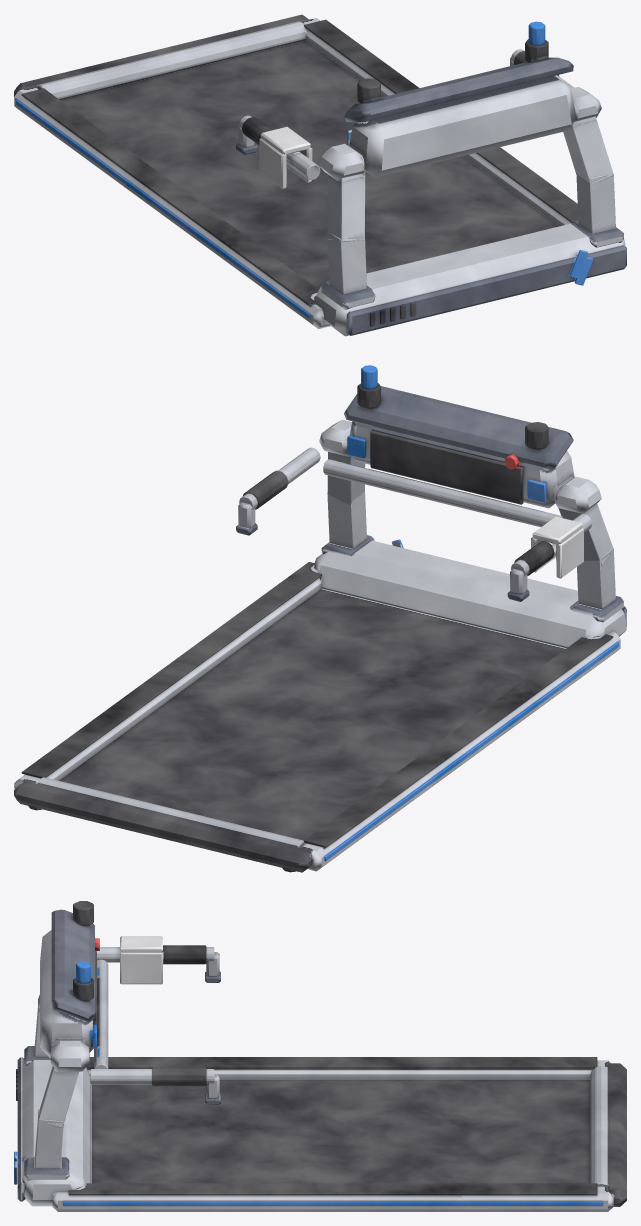
File: Treadmill_Acier_Rig.fbx
3 views of the same model, one above another, from view 1: azimuth 30°, elevation 25°; view 2: azimuth 150°, elevation 25°; view 3: azimuth 270°, elevation 25° (orthographic). The views are drawn at different scales.
Parts seen in each view (by area): view 1: Frame, Console; view 2: Frame, Console; view 3: Frame, Console.
Part boxes in pixels (x1=…): Frame: x1=14, y1=14, x2=626, y2=336; Console: x1=236, y1=21, x2=623, y2=309; Frame: x1=14, y1=539, x2=626, y2=872; Console: x1=236, y1=365, x2=623, y2=622; Frame: x1=14, y1=1057, x2=626, y2=1211; Console: x1=24, y1=901, x2=220, y2=1180.
Bounding box in the file's own units: 8.19 × 6 × 15.24.
Materials: 1 (1 with a texture image).
